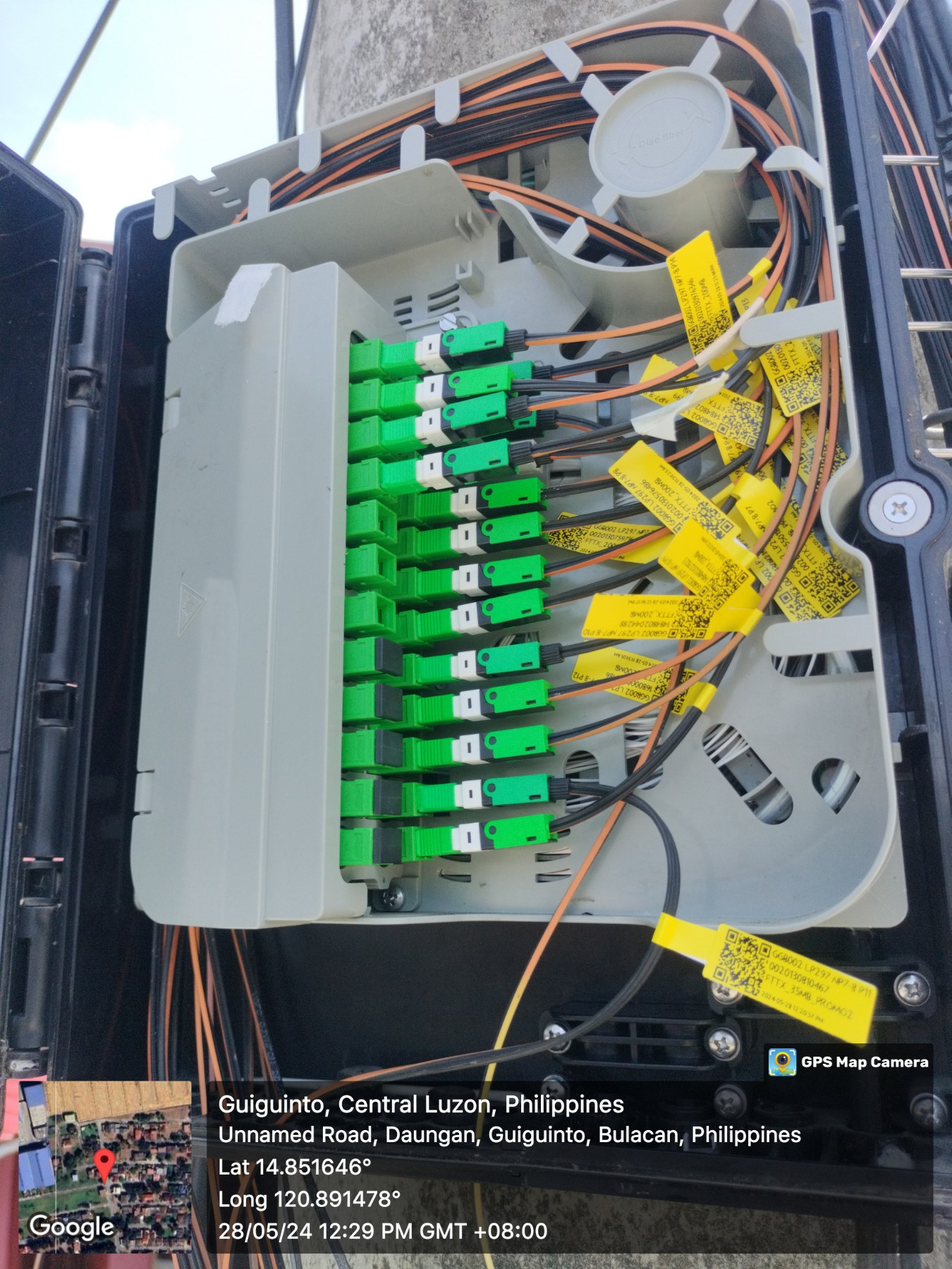no dust cap: (376, 503, 398, 543), (375, 544, 396, 585), (376, 592, 396, 635)
occupied: (381, 433, 541, 491), (380, 391, 535, 449), (416, 584, 562, 643), (416, 637, 579, 689), (409, 439, 562, 490), (415, 770, 583, 815), (382, 323, 534, 371), (417, 813, 565, 862), (417, 551, 559, 602), (410, 404, 565, 450), (417, 679, 561, 728), (416, 722, 559, 770), (419, 508, 556, 558), (381, 363, 525, 410), (414, 476, 552, 522), (415, 357, 557, 400)
vacant: (373, 728, 408, 770), (371, 827, 405, 868), (373, 682, 404, 723), (374, 779, 405, 819), (374, 638, 404, 679)
